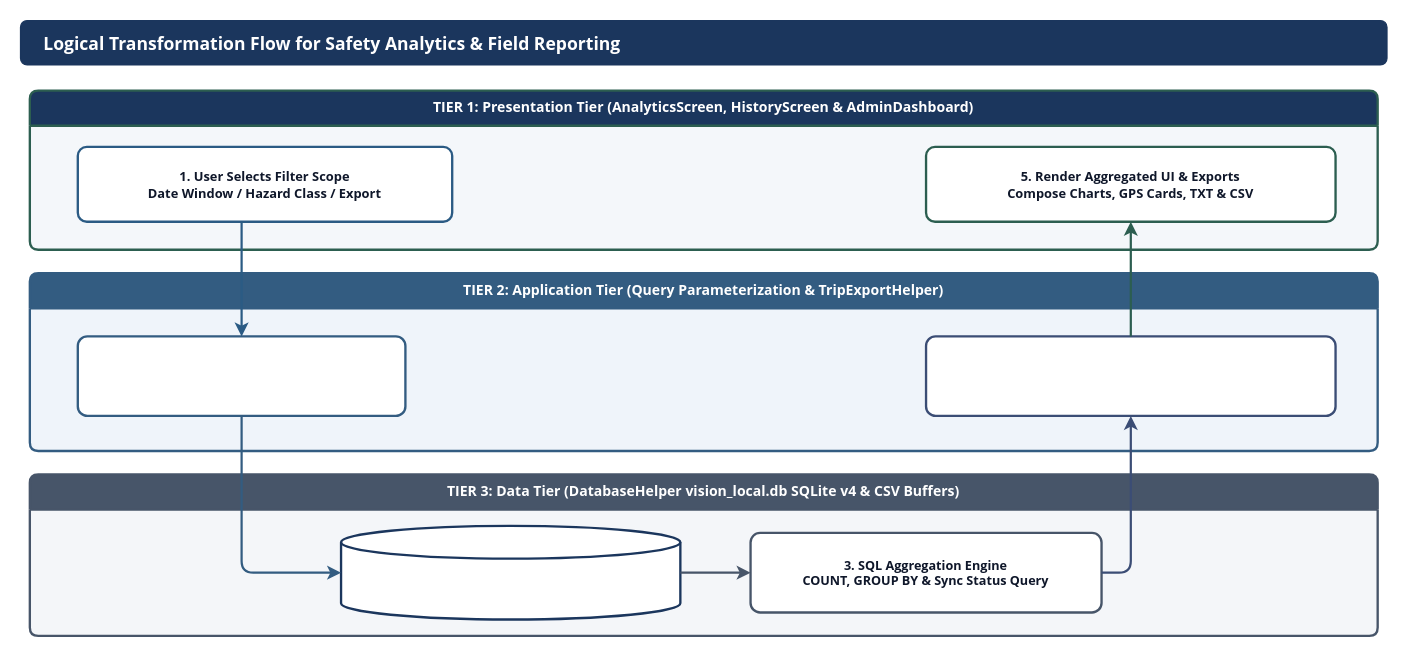
The diagram is 1408 pixels wide and 658 high, and some of its shapes have lost their labels. Here are the shapes that lost their labels. From the top down, the centre of each, then its label:
the point at 241,376: 2. Safe Input Validation Parameterize SQL Filter Arguments
the point at 1130,376: 4. Compute Safety Metrics & Exports Total Hazards, Top Hazard, BOM CSV & TXT
the point at 510,572: DETECTION_RECORD + TRIP Indexed SQLite v4 Storage
